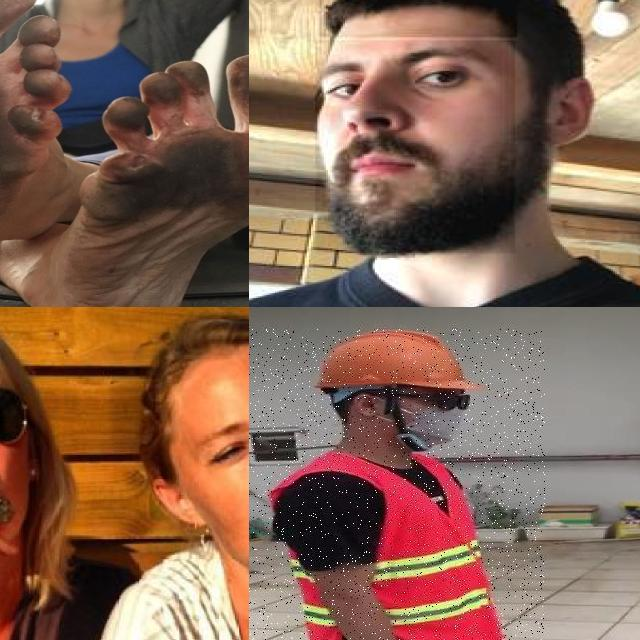Barefoots: (45, 54, 249, 307), (0, 0, 71, 268)
No_Ear-Protection: (142, 468, 213, 540), (534, 71, 600, 147), (350, 390, 381, 422)
No_Glasses: (186, 393, 249, 480)
face_nomask: (315, 40, 515, 254), (200, 414, 249, 529)
glasses: (0, 372, 52, 455)
head_helmet: (295, 330, 480, 397)
head_nohelmet: (319, 0, 517, 37), (145, 326, 249, 384)
person: (249, 0, 640, 307), (249, 329, 545, 640)
vest: (262, 450, 500, 640)
